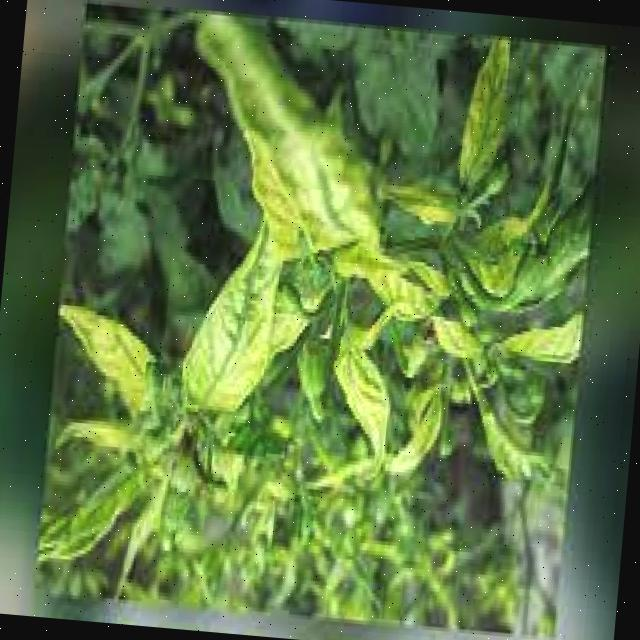leaf curl: (208, 42, 554, 404), (44, 374, 350, 606)
